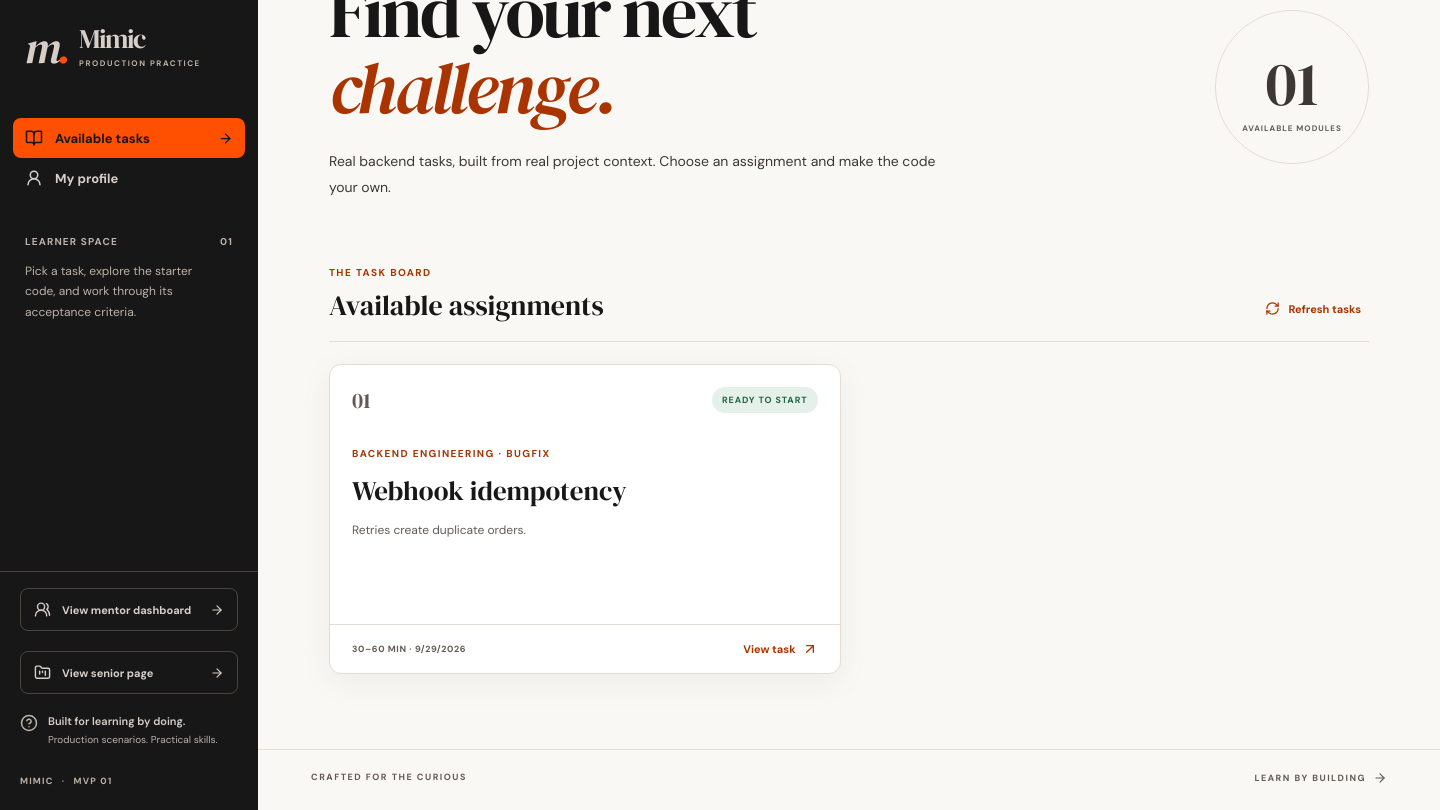
Scenario: lets juniors open an available task from the catalog
(page scrolled)
Check: the button "Webhook idempotency" is shown, box [352,475,627,507]
Click the button with aria-label "open webhook idempotency": (780, 649) [743,641,818,657]
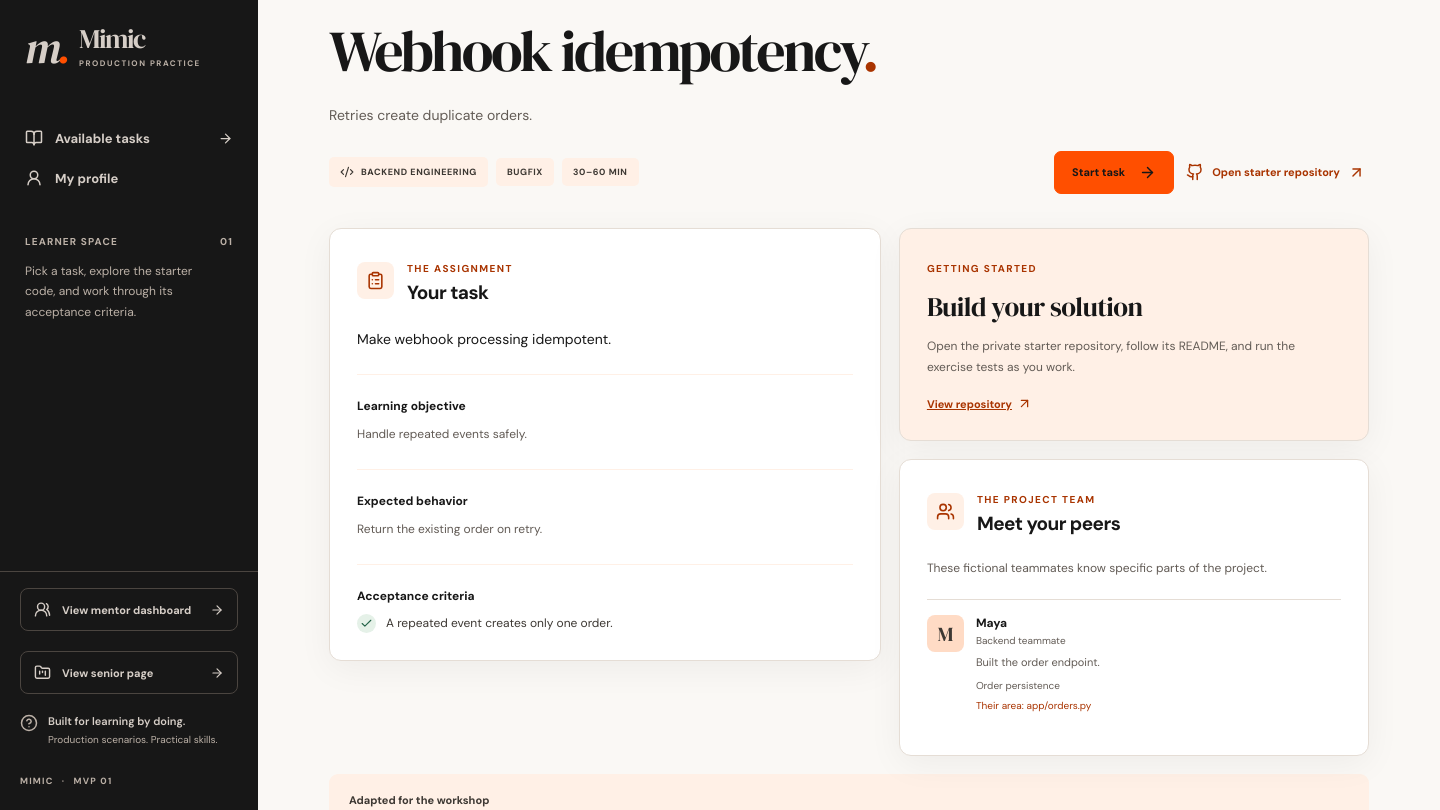
Check: the text "Make webhook processing idempotent." is shown, box [357,330,611,348]
